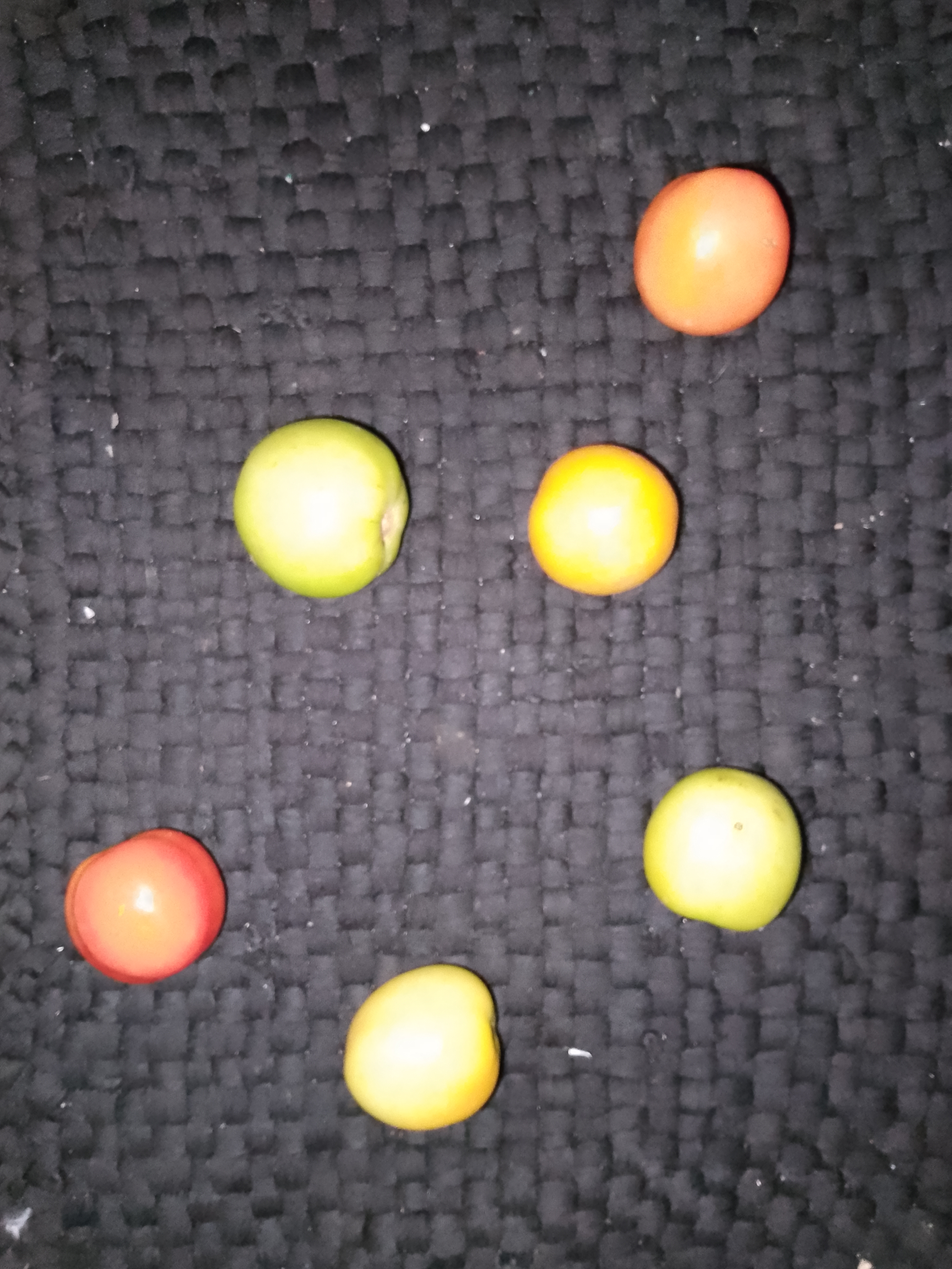Ripe: (545, 138, 831, 348), (0, 794, 296, 994)
Unripe: (260, 947, 571, 1168), (189, 381, 436, 610), (592, 745, 851, 939), (504, 439, 711, 636)
